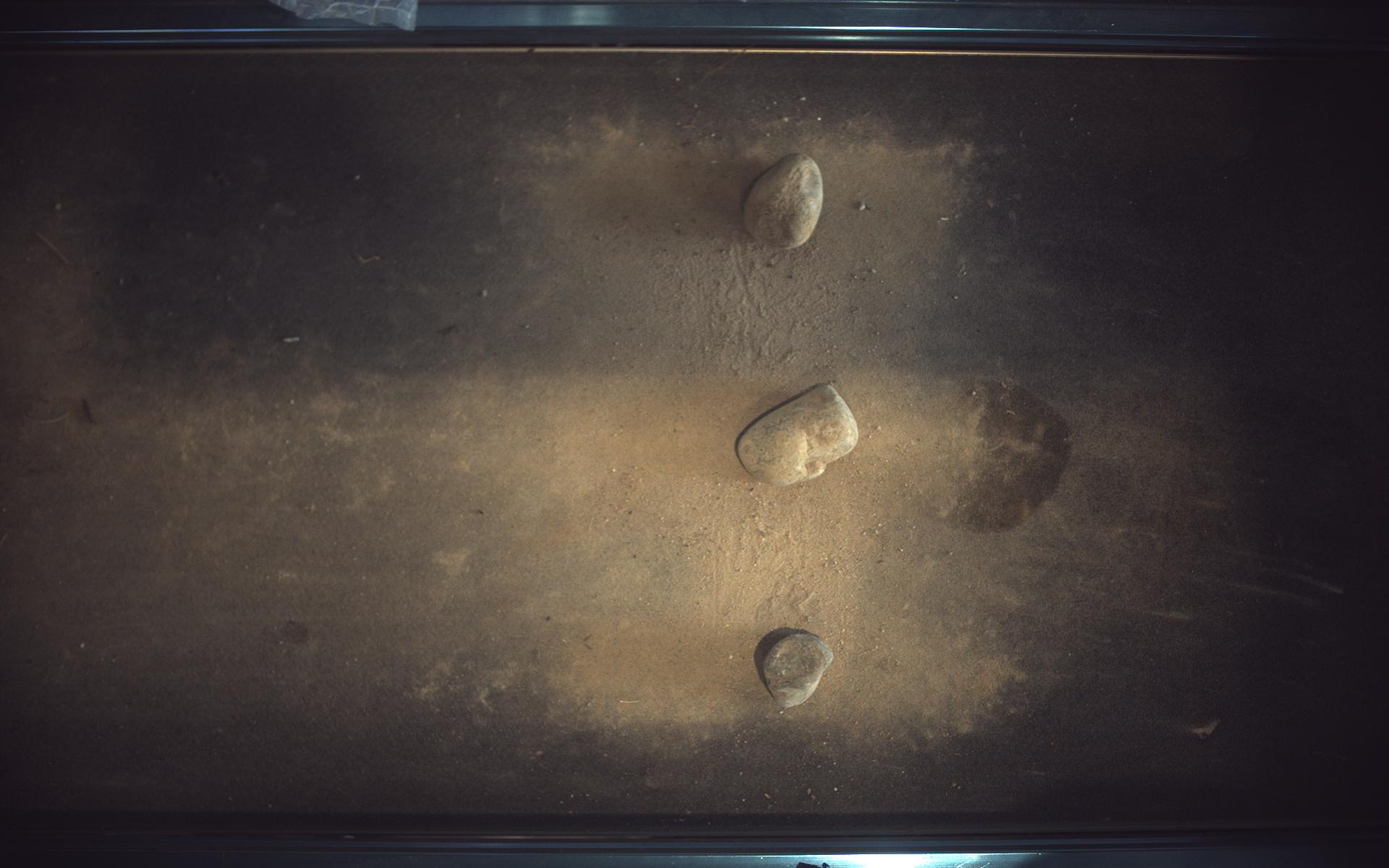stone: (738, 384, 860, 486), (745, 153, 825, 247), (763, 632, 835, 710)
